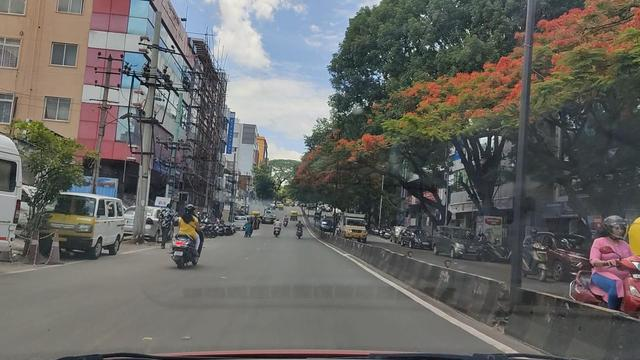LMV: (167, 198, 204, 283)
RoadDamages: (184, 332, 197, 345)
